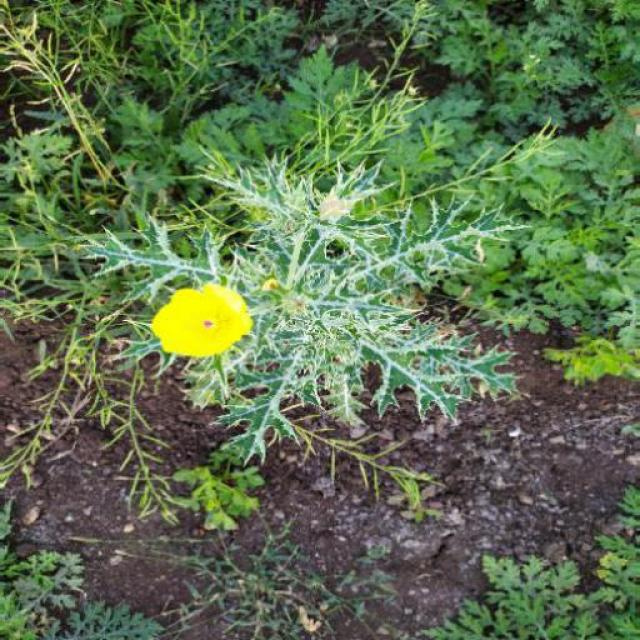weed: (38, 25, 628, 416)
